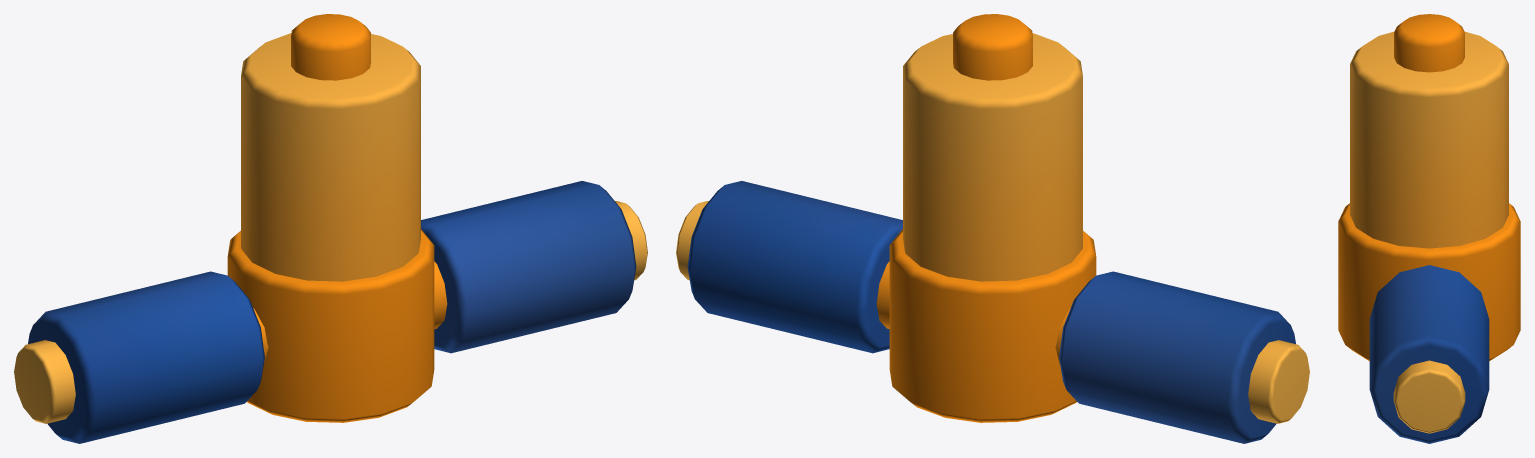
File: Spinner_2.fbx
3 views of the same model, side by side, from view 1: azimuth 30°, elevation 25°; view 2: azimuth 150°, elevation 25°; view 3: azimuth 270°, elevation 25° (orthographic). The views are drawn at different scales.
Parts seen in each view (by area): view 1: Spinner 2; view 2: Spinner 2; view 3: Spinner 2.
Part boxes in pixels (left/top/right/bottom): Spinner 2: left=14, top=14, right=647, bottom=443; Spinner 2: left=676, top=14, right=1309, bottom=443; Spinner 2: left=1338, top=14, right=1520, bottom=443.
Bounding box in the file's own units: 199 × 113 × 60.1.
